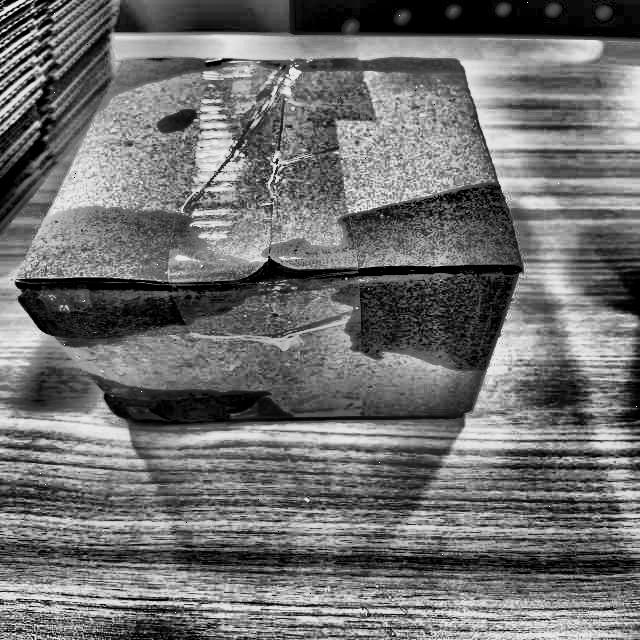box: (16, 39, 529, 436)
wet: (15, 190, 238, 353), (331, 177, 529, 360), (100, 384, 266, 434), (245, 48, 468, 84), (88, 47, 228, 101)
